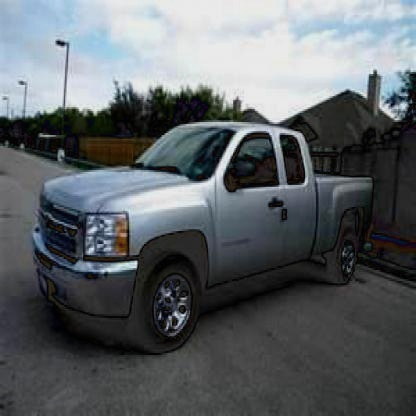Vehicle: (32, 118, 380, 361)
